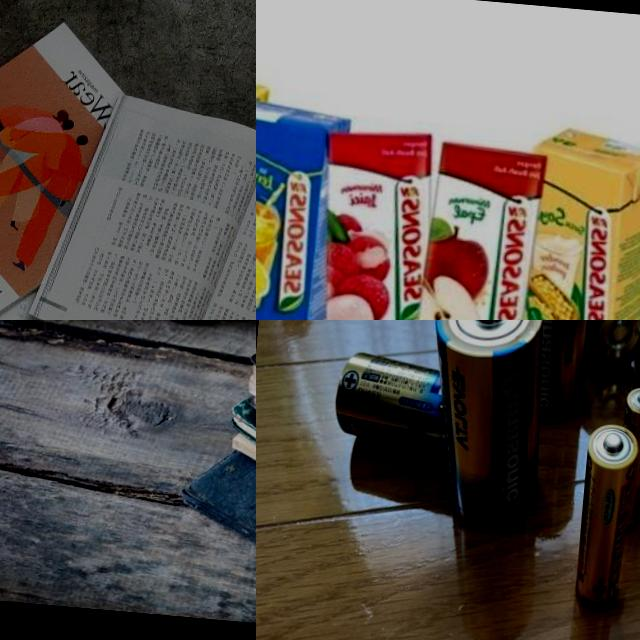bateria: (416, 320, 561, 539), (323, 348, 460, 461), (568, 414, 640, 613), (490, 320, 601, 431), (609, 381, 640, 542), (555, 320, 640, 378), (618, 320, 640, 488)
caixinha: (408, 137, 549, 320), (314, 112, 433, 320), (512, 127, 640, 320), (256, 99, 350, 320)
papel: (0, 8, 256, 320), (173, 320, 256, 605)
